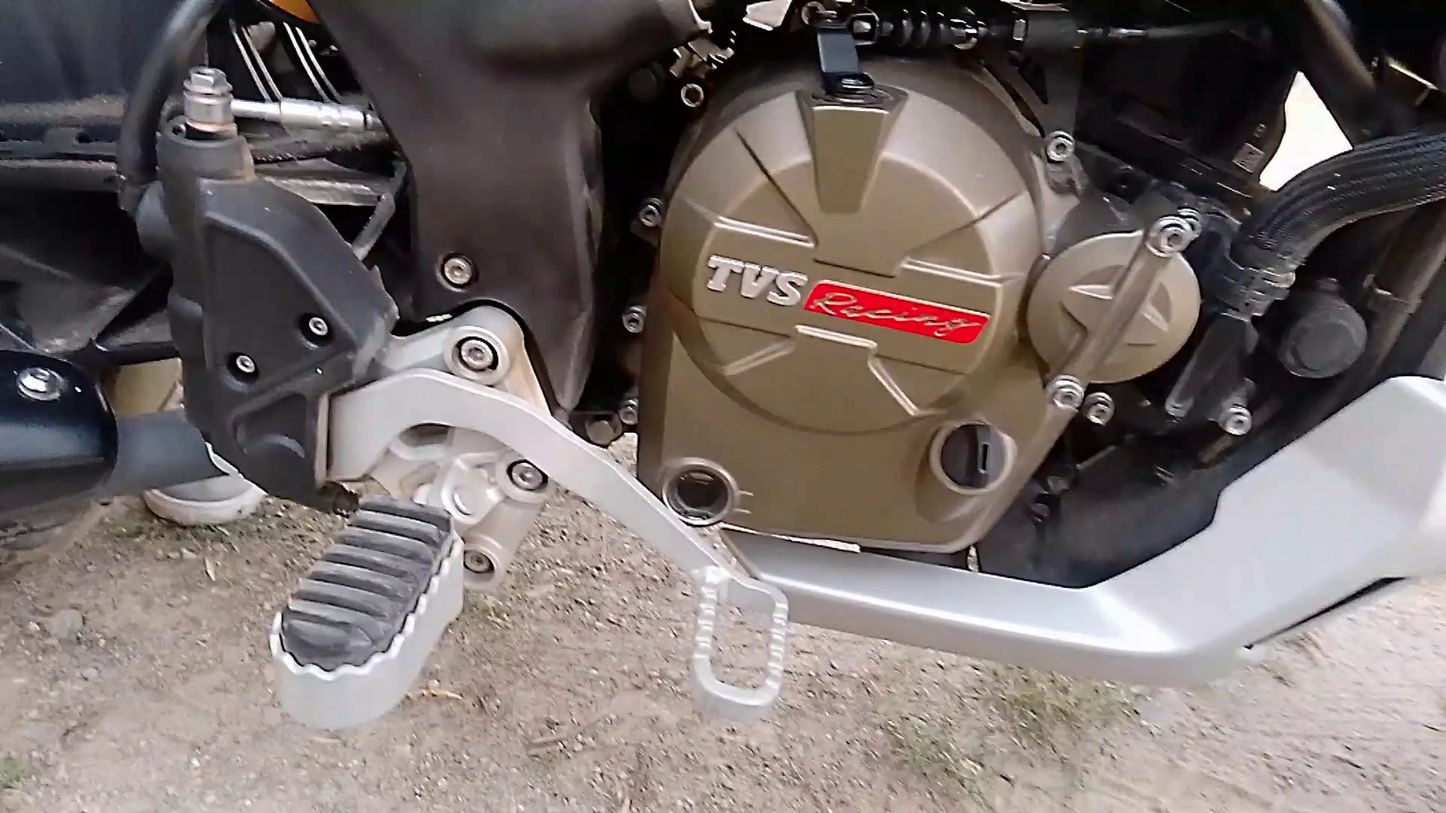bike-engine: (638, 54, 1206, 548)
bike-engine-level: (654, 440, 744, 526)
bike-oil-cap: (930, 415, 1024, 489)
